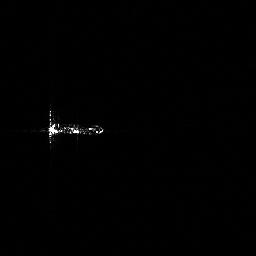ship: (43, 103, 106, 150)
